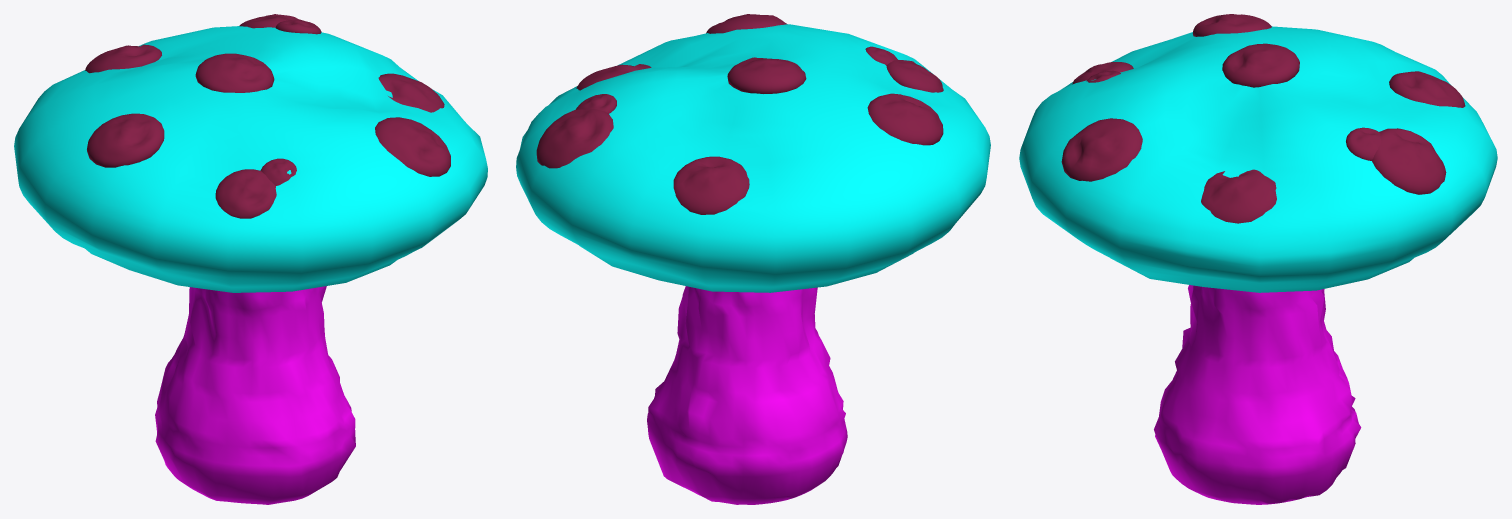
The model's file is MushroomModel.fbx.
3 views of the same model, side by side, from view 1: azimuth 30°, elevation 25°; view 2: azimuth 150°, elevation 25°; view 3: azimuth 270°, elevation 25° (orthographic).
Visible parts, largest first — view 1: Head, Stem, Dot1, Dot10, Dot3, Dot8, Dot4, Dot11, Dot9, Do6; view 2: Head, Stem, Dot11, Do6, Dot1, Dot3, Dot8, Dot10, Dot4, Dot7; view 3: Head, Stem, Dot10, Do6, Dot4, Dot3, Dot11, Dot1, Dot7.
Part boxes in pixels (x1,y1,x2,y2): Head: (14,26,487,292); Stem: (155,286,355,504); Dot1: (87,113,164,167); Dot10: (375,117,450,176); Dot3: (195,53,274,92); Dot8: (215,169,276,218); Dot4: (378,73,444,112); Dot11: (85,44,161,73); Dot9: (260,158,296,185); Do6: (239,14,321,32); Head: (516,24,990,292); Stem: (647,286,847,504); Dot11: (673,156,749,214); Do6: (536,109,613,168); Dot1: (867,93,943,145); Dot3: (727,57,806,93); Dot8: (886,60,943,92); Dot10: (706,14,787,33); Dot4: (576,64,651,90); Dot7: (576,94,616,113); Head: (1019,26,1497,292); Stem: (1154,285,1361,504); Dot10: (1061,118,1142,181); Do6: (1372,128,1446,194); Dot4: (1201,169,1276,223); Dot3: (1222,43,1299,87); Dot11: (1389,71,1465,107); Dot1: (1192,14,1271,36); Dot7: (1346,127,1381,160).
Size of the model in its own units: 4.54 by 4.45 by 4.6.
